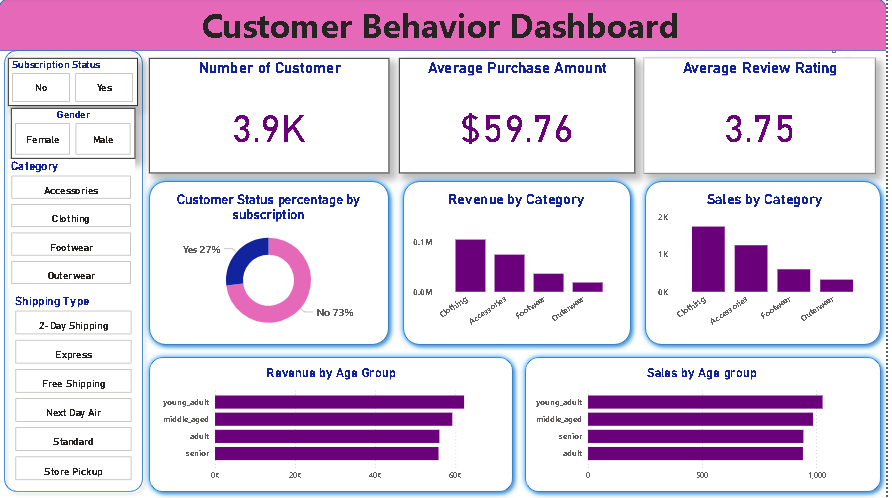

The dashboard page shown, as its layout file describes it:
{"tool":"powerbi","page":{"name":"Page 1","canvas":[1280,720],"ordinal":0},"visuals":[{"type":"card","title":"Number of Customer","fields":{"Values":["customer_data.Number_of_Customers"]},"box":[217.4,86.4,345.6,165.6],"z":0},{"type":"card","title":"Average Purchase Amount","fields":{"Values":["customer_data.Average_Purcahase_Amount"]},"box":[577.4,86.4,339.8,165.6],"z":1000},{"type":"card","title":"Average Review Rating","fields":{"Values":["customer_data.Average_Review_Rating"]},"box":[930.2,86.4,332.6,165.6],"z":2000},{"type":"shape","box":[0,0,1280.2,76.3],"z":3000},{"type":"textbox","box":[46.1,0,1195.2,86.4],"z":4000},{"type":"shape","box":[208.8,254.9,362.9,253.4],"z":5000},{"type":"donutChart","title":"Customer Status percentage by subscription","fields":{"Category":["customer_data.subscription_status"],"Y":["CountNonNull(customer_data.customer_id)"]},"box":[227.5,277.9,324,213.1],"z":6000},{"type":"shape","box":[574.6,254.9,345.6,253.4],"z":7000},{"type":"shape","box":[923,254.9,357.1,253.4],"z":8000},{"type":"clusteredColumnChart","title":"Revenue by Category","fields":{"Y":["Sum(customer_data.purchase_amount)"],"Category":["customer_data.category"]},"box":[593.3,277.9,306.7,213.1],"z":9000},{"type":"clusteredColumnChart","title":"Sales by Category","fields":{"Category":["customer_data.category"],"Y":["CountNonNull(customer_data.customer_id)"]},"box":[944.6,277.9,318.2,213.1],"z":10000},{"type":"shape","box":[0,66.2,217.4,653.8],"z":11000},{"type":"advancedSlicerVisual","title":"Subscription Status","fields":{"Values":["customer_data.subscription_status"]},"box":[14.4,86.4,187.2,69.1],"z":12000},{"type":"advancedSlicerVisual","title":"Gender","fields":{"Values":["customer_data.gender"]},"box":[18.7,158.4,178.6,73.4],"z":13000},{"type":"advancedSlicerVisual","title":"Category","fields":{"Values":["customer_data.category"]},"box":[14.4,231.8,182.9,185.8],"z":14000},{"type":"advancedSlicerVisual","title":"Shipping Type","fields":{"Values":["customer_data.shipping_type"]},"box":[20.2,426.2,177.1,277.9],"z":15000},{"type":"shape","box":[208.8,508.3,541.4,211.7],"z":16000},{"type":"clusteredBarChart","title":"Revenue by Age Group","fields":{"Y":["Sum(customer_data.purchase_amount)"],"Category":["customer_data.age_group"]},"box":[227.5,528.5,504,175.7],"z":17000},{"type":"shape","box":[750.2,508.3,529.9,211.7],"z":18000},{"type":"clusteredBarChart","title":"Sales by Age group","fields":{"Y":["CountNonNull(customer_data.customer_id)"],"Category":["customer_data.age_group"]},"box":[764.6,528.5,498.2,175.7],"z":19000}]}

Visuals, with their boxes in screenshot pixels (x1, y1, x2, y2), scaled from the page's 1280x720 canvas onto the 892x498 screenshot:
"Number of Customer" card: {"left": 152, "top": 60, "right": 392, "bottom": 174}
"Average Purchase Amount" card: {"left": 402, "top": 60, "right": 639, "bottom": 174}
"Average Review Rating" card: {"left": 648, "top": 60, "right": 880, "bottom": 174}
shape: {"left": 0, "top": 0, "right": 891, "bottom": 53}
textbox: {"left": 32, "top": 0, "right": 865, "bottom": 60}
shape: {"left": 146, "top": 176, "right": 398, "bottom": 352}
"Customer Status percentage by subscription" donutChart: {"left": 159, "top": 192, "right": 384, "bottom": 340}
shape: {"left": 400, "top": 176, "right": 641, "bottom": 352}
shape: {"left": 643, "top": 176, "right": 891, "bottom": 352}
"Revenue by Category" clusteredColumnChart: {"left": 413, "top": 192, "right": 627, "bottom": 340}
"Sales by Category" clusteredColumnChart: {"left": 658, "top": 192, "right": 880, "bottom": 340}
shape: {"left": 0, "top": 46, "right": 152, "bottom": 497}
"Subscription Status" advancedSlicerVisual: {"left": 10, "top": 60, "right": 140, "bottom": 108}
"Gender" advancedSlicerVisual: {"left": 13, "top": 110, "right": 137, "bottom": 160}
"Category" advancedSlicerVisual: {"left": 10, "top": 160, "right": 137, "bottom": 289}
"Shipping Type" advancedSlicerVisual: {"left": 14, "top": 295, "right": 137, "bottom": 487}
shape: {"left": 146, "top": 352, "right": 523, "bottom": 497}
"Revenue by Age Group" clusteredBarChart: {"left": 159, "top": 366, "right": 510, "bottom": 487}
shape: {"left": 523, "top": 352, "right": 891, "bottom": 497}
"Sales by Age group" clusteredBarChart: {"left": 533, "top": 366, "right": 880, "bottom": 487}
